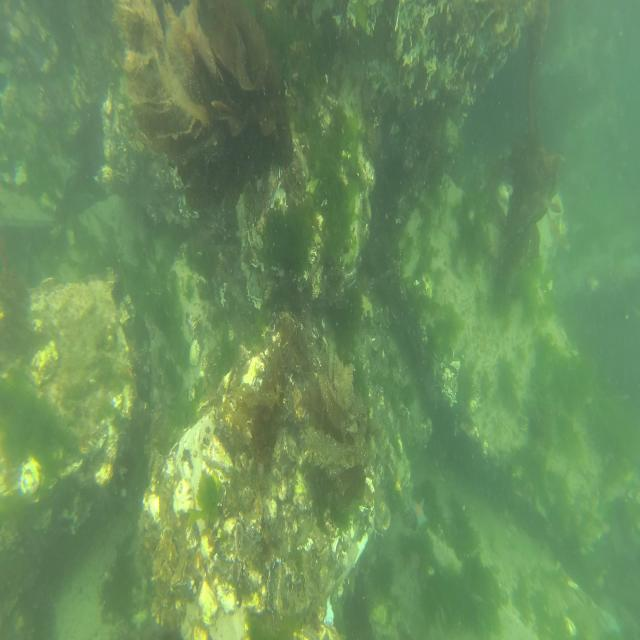starfish: (407, 494, 430, 529), (599, 606, 622, 635)
